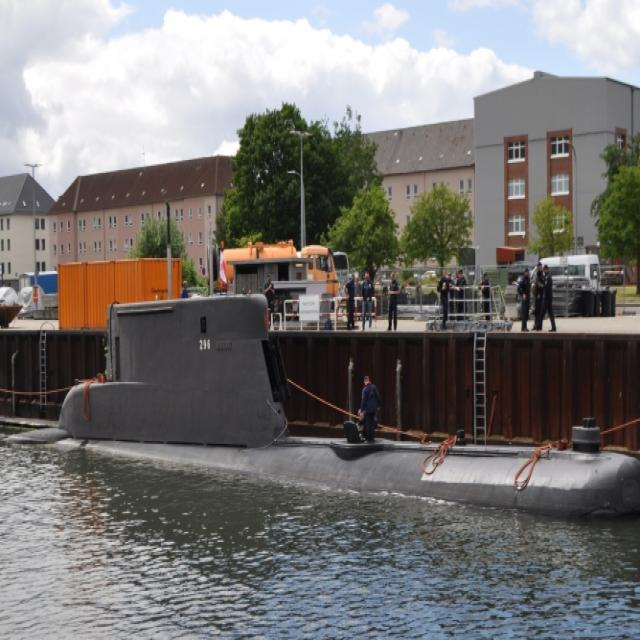submarine: (21, 295, 640, 511)
